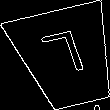L_S: (40, 29, 93, 86)
